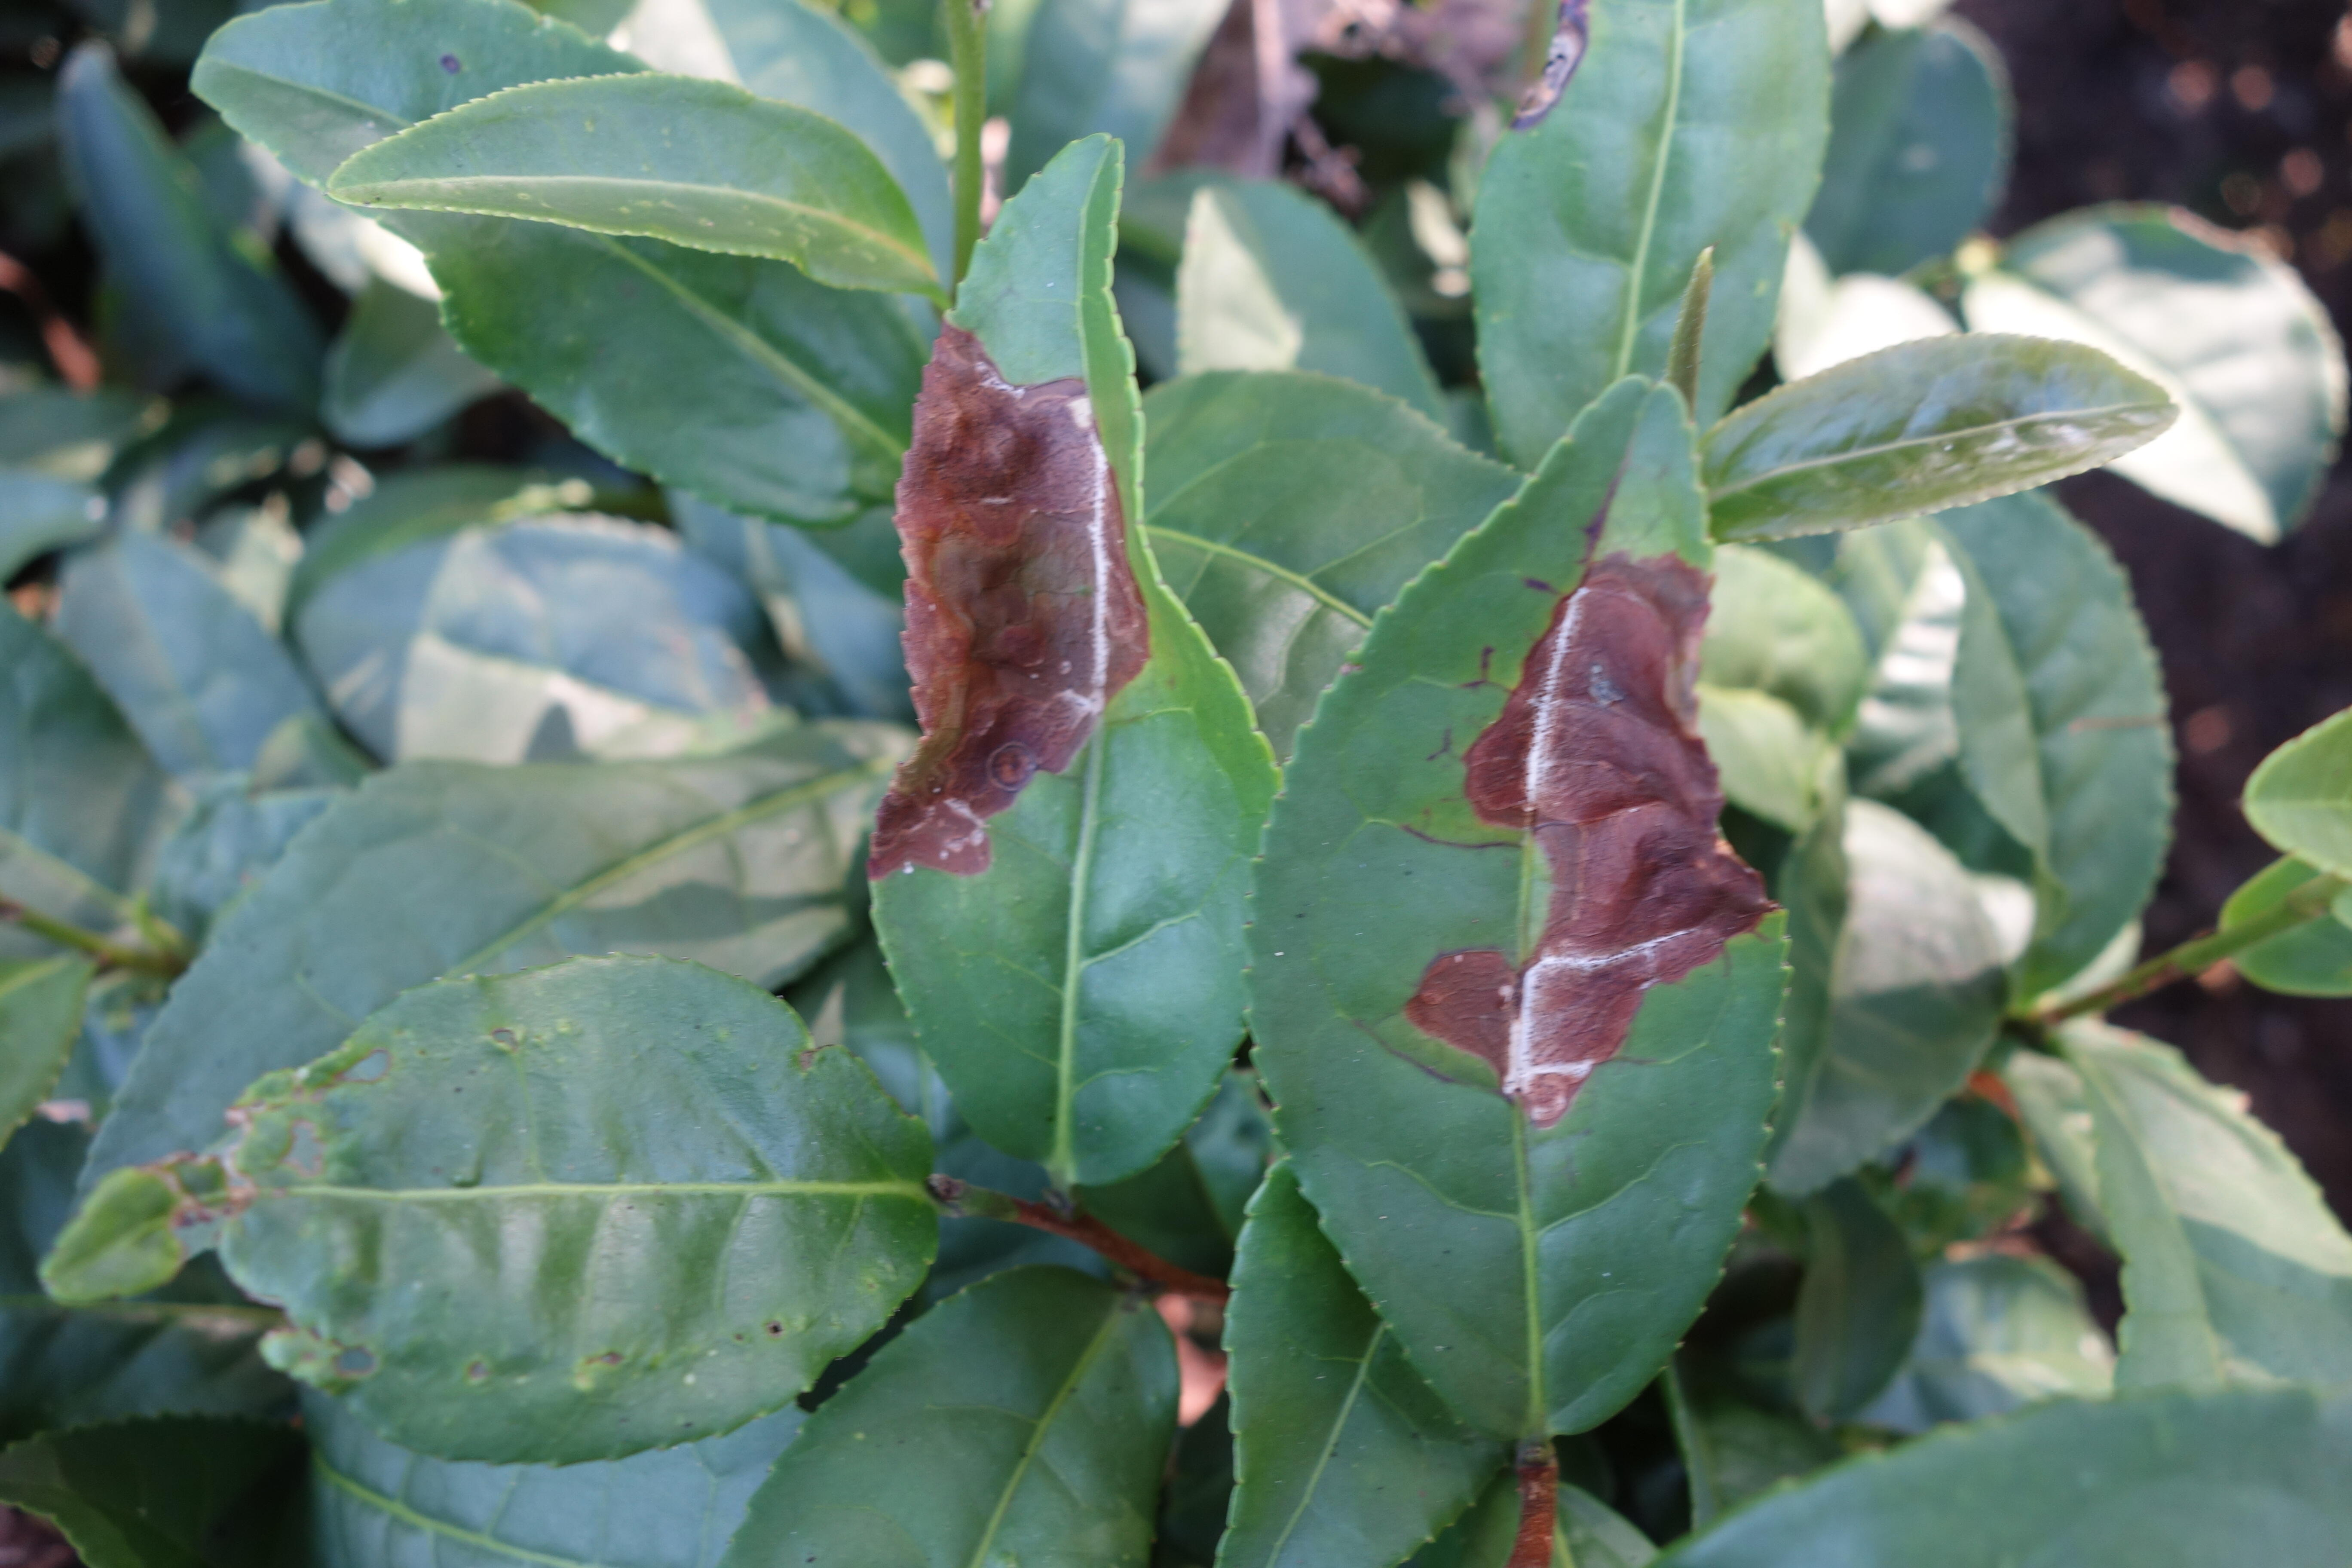chihuo_high: (37, 950, 950, 1465)
healthy: (331, 68, 945, 301)
tanju_high: (1241, 374, 1799, 1454), (866, 133, 1295, 1193)
tanju_low: (1465, 3, 1794, 462)
